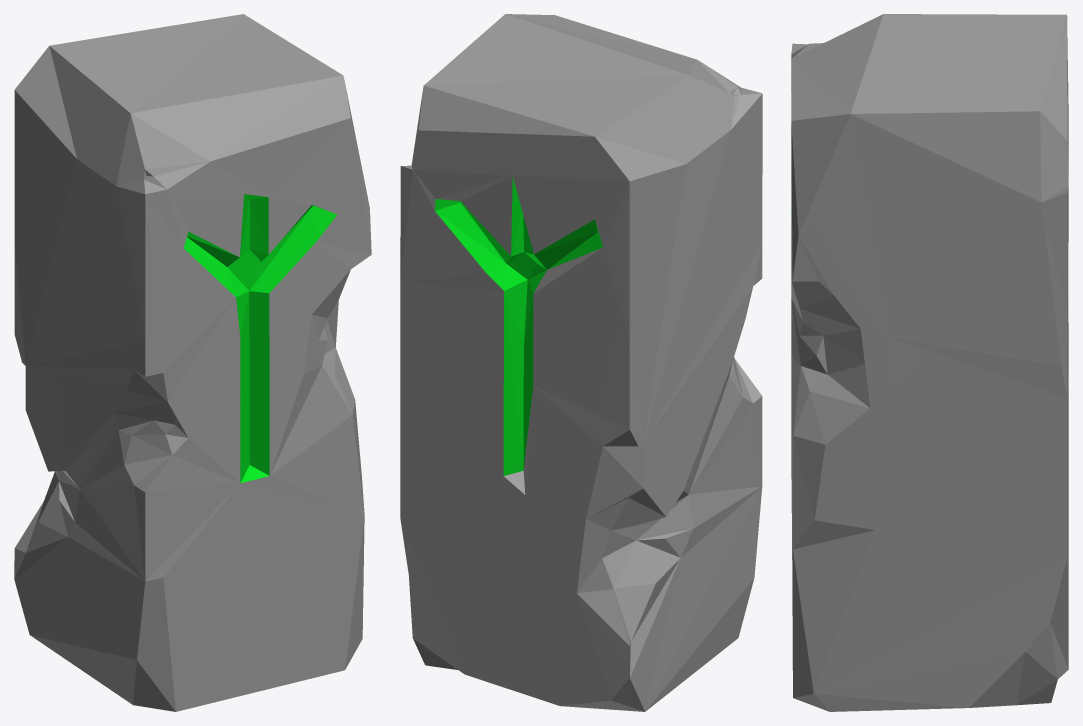
The model's file is GreenPillar.fbx.
3 views of the same model, side by side, from view 1: azimuth 30°, elevation 25°; view 2: azimuth 150°, elevation 25°; view 3: azimuth 270°, elevation 25° (orthographic). The views are drawn at different scales.
Visible parts, largest first — view 1: SM_Env_Rune_Pillar_02; view 2: SM_Env_Rune_Pillar_02; view 3: SM_Env_Rune_Pillar_02.
Boxes of the visible parts, <box> form: SM_Env_Rune_Pillar_02: <box>14,14,371,711</box>; SM_Env_Rune_Pillar_02: <box>400,14,762,711</box>; SM_Env_Rune_Pillar_02: <box>791,14,1068,711</box>.
Bounding box in the file's own units: 100 × 238 × 100.
